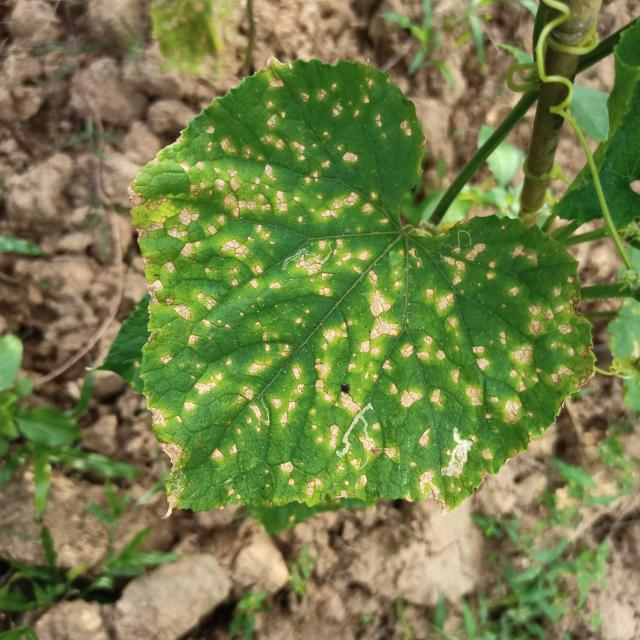disease_cucumber: (146, 92, 572, 506)
